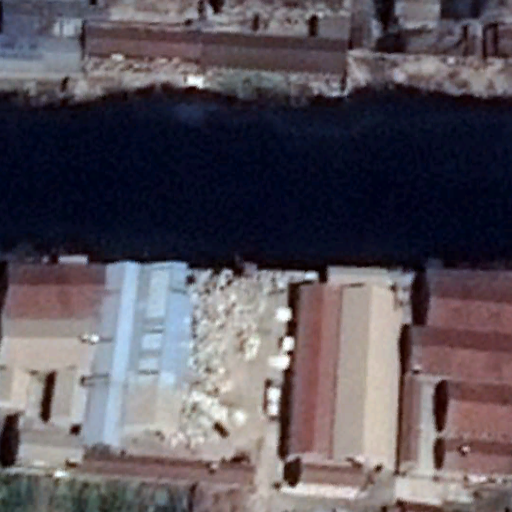msw: (174, 270, 277, 448)
